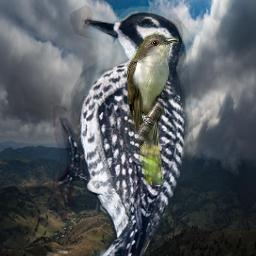Cuckoo: (127, 29, 179, 185)
Woodpecker: (53, 3, 194, 256)
